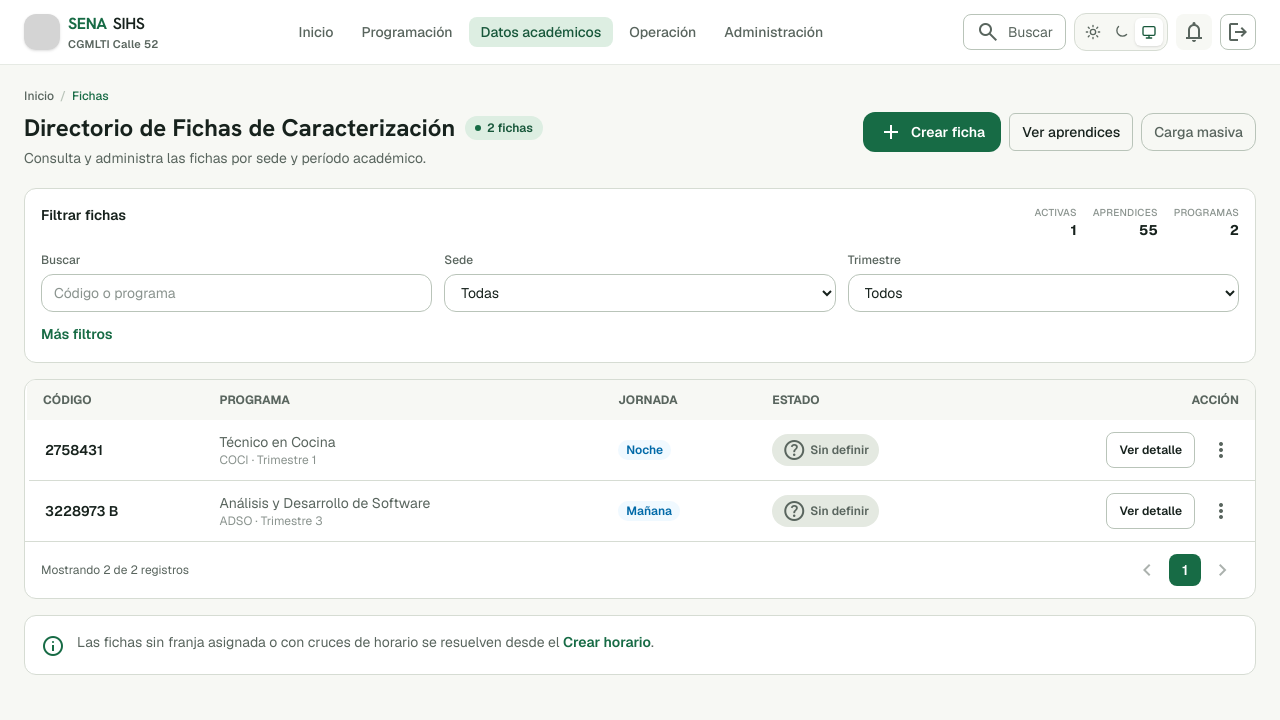
Test case: Fichas › clic en una fila abre el drawer con programa, jornadas y aprendices
Click the text "3228973 B" at x=115, y=511, box [27,480,204,541]
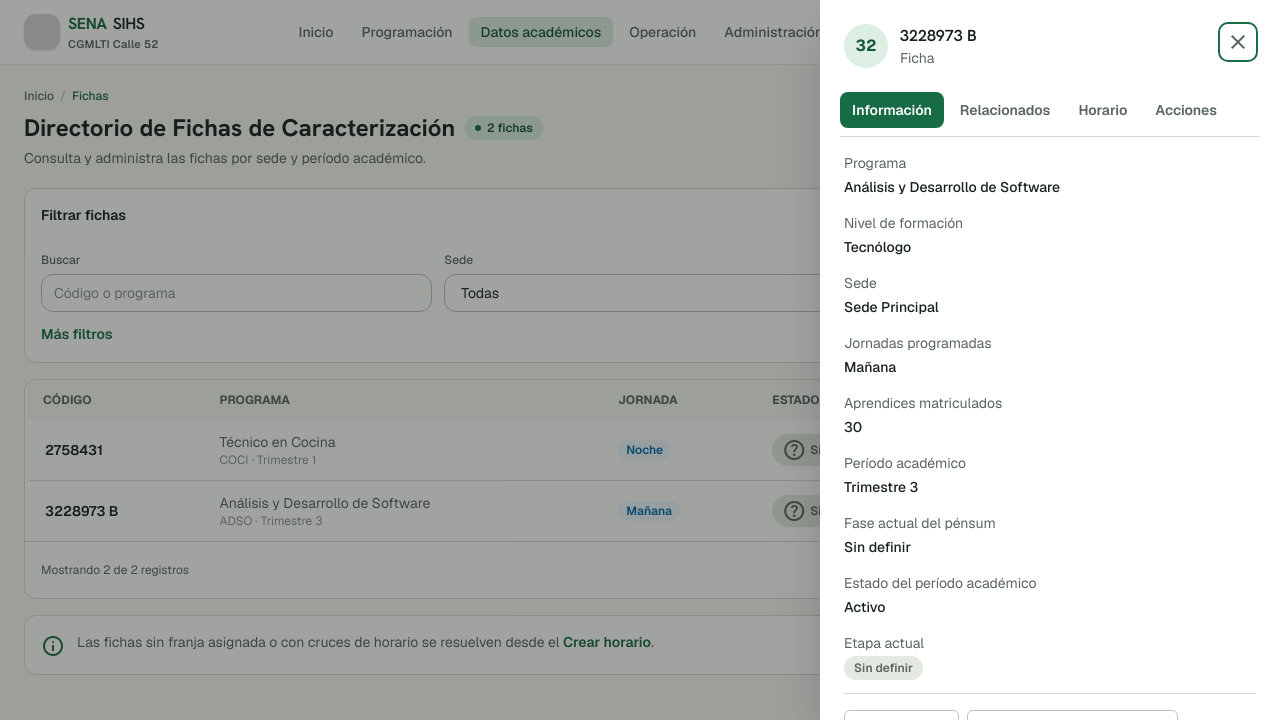
Check: the text "Análisis y Desarrollo de Software" is shown, box [844,178,1060,196]
Check: the text "Mañana" is shown, box [844,358,896,376]
Check: the text "30" is shown, box [844,418,862,436]
